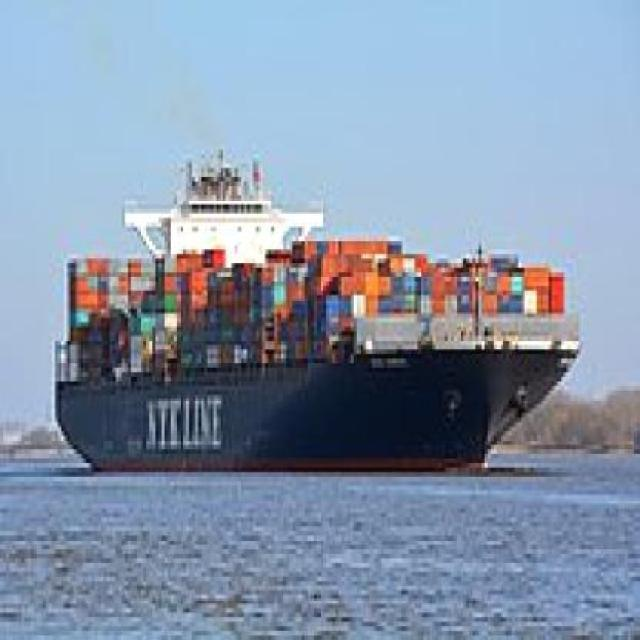Container Ship: (24, 143, 577, 496)
